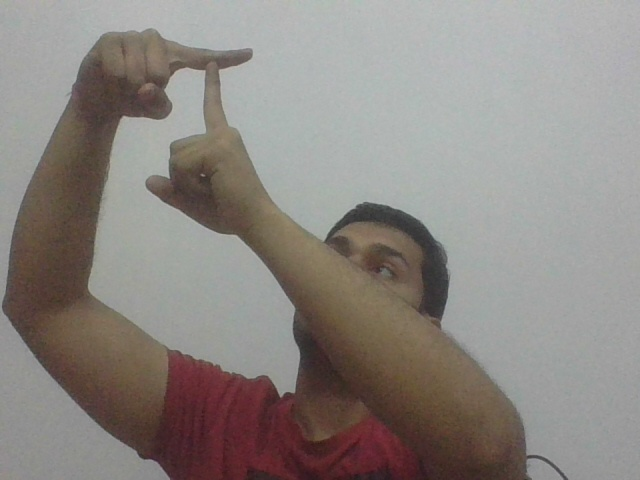T: (177, 37, 257, 128)
